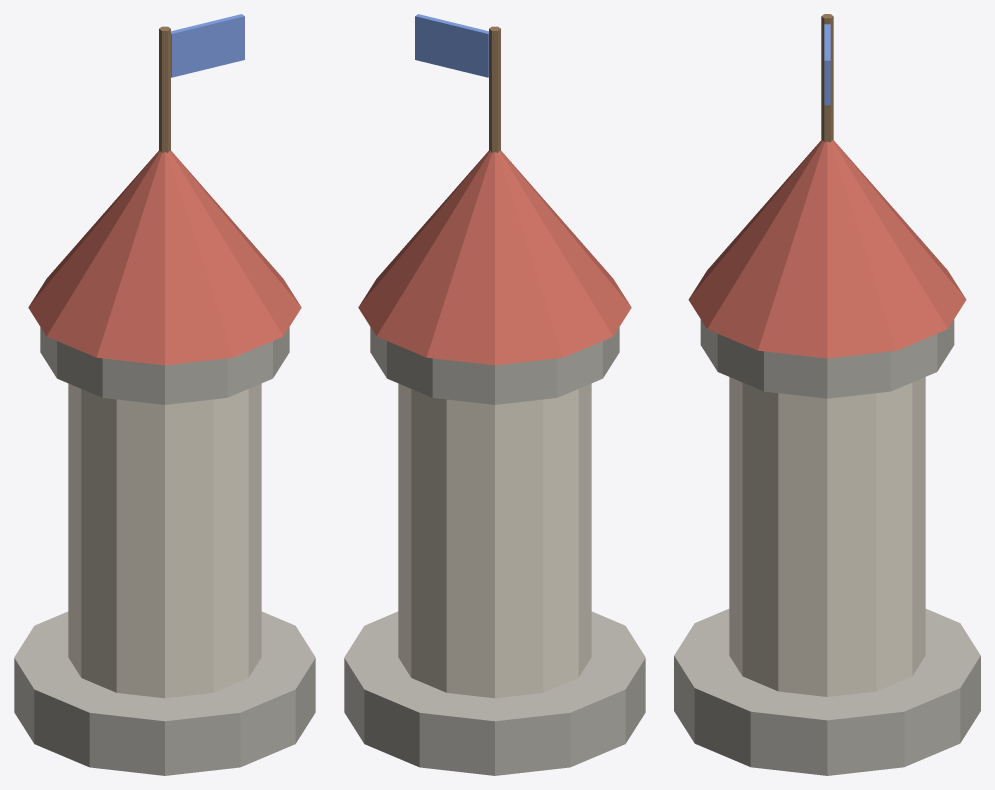
Rendered from tower.glb.
The picture shows the model from 3 angles, left to right: view 1: azimuth 30°, elevation 25°; view 2: azimuth 150°, elevation 25°; view 3: azimuth 270°, elevation 25°; orthographic projection.
Parts seen in each view (by area): view 1: Body, Roof, Base, Rampart, Flag, Pole; view 2: Body, Roof, Base, Rampart, Flag, Pole; view 3: Body, Roof, Base, Rampart, Pole, Flag.
Part boxes in pixels (left/top/right/bottom): Body: left=68, top=383, right=261, bottom=698; Roof: left=28, top=151, right=301, bottom=365; Base: left=14, top=611, right=315, bottom=775; Rampart: left=40, top=327, right=289, bottom=404; Flag: left=171, top=14, right=244, bottom=77; Pole: left=159, top=26, right=170, bottom=152; Body: left=398, top=383, right=591, bottom=698; Roof: left=358, top=151, right=631, bottom=365; Base: left=344, top=611, right=645, bottom=775; Rampart: left=370, top=327, right=619, bottom=404; Flag: left=415, top=14, right=488, bottom=77; Pole: left=489, top=26, right=500, bottom=152; Body: left=729, top=377, right=925, bottom=696; Roof: left=688, top=140, right=966, bottom=358; Base: left=674, top=609, right=980, bottom=775; Rampart: left=700, top=319, right=954, bottom=398; Pole: left=821, top=14, right=833, bottom=142; Flag: left=824, top=24, right=830, bottom=105.
Bounding box in the file's own units: 1.5 × 3.75 × 1.5.
